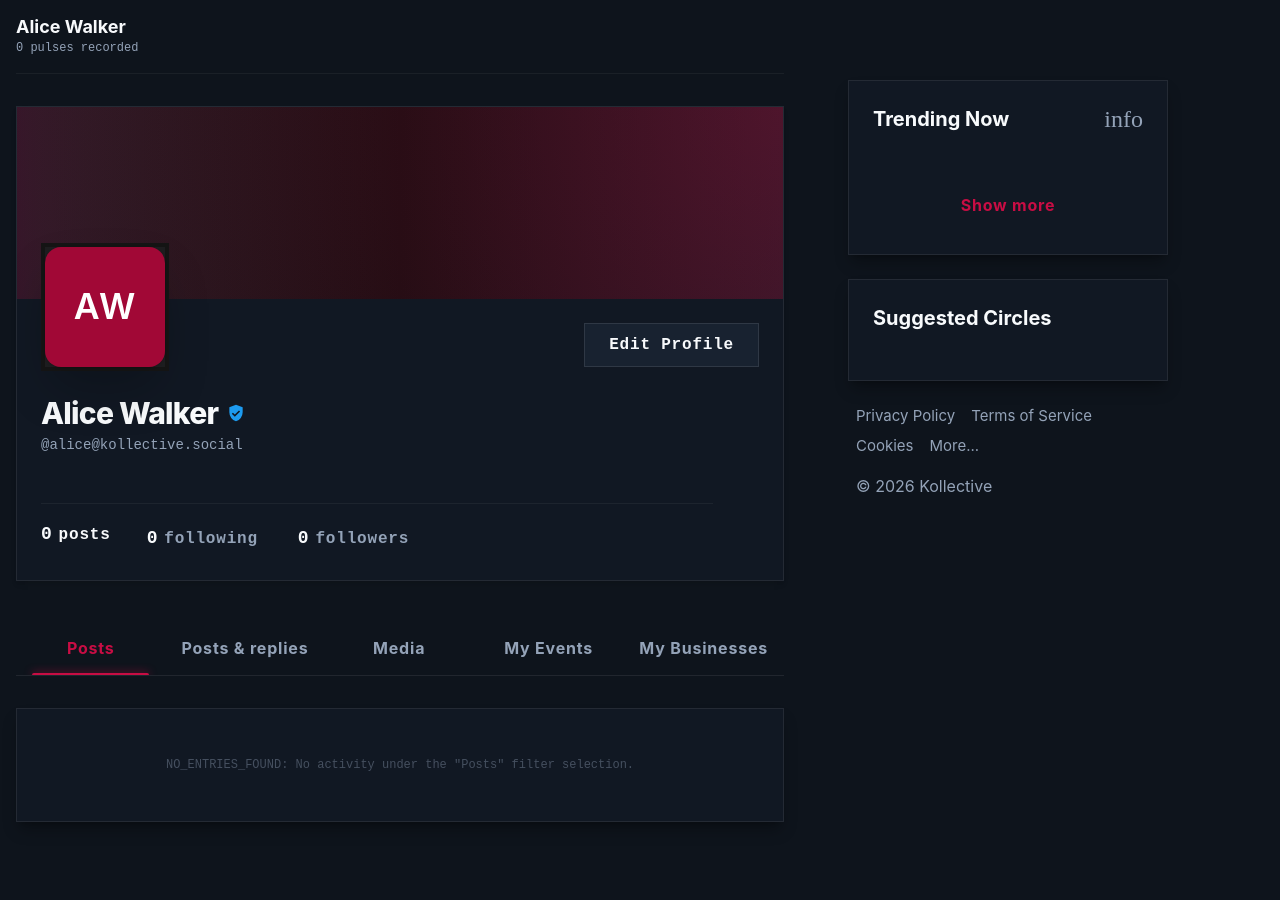
Test case: UserProfilePage Events and Businesses Visibility Suite › renders user hosted events and Edit button when My Events tab is selected
Step 1. Click the button with test id "tab-my-events" → (549, 648), box [474, 620, 623, 675]
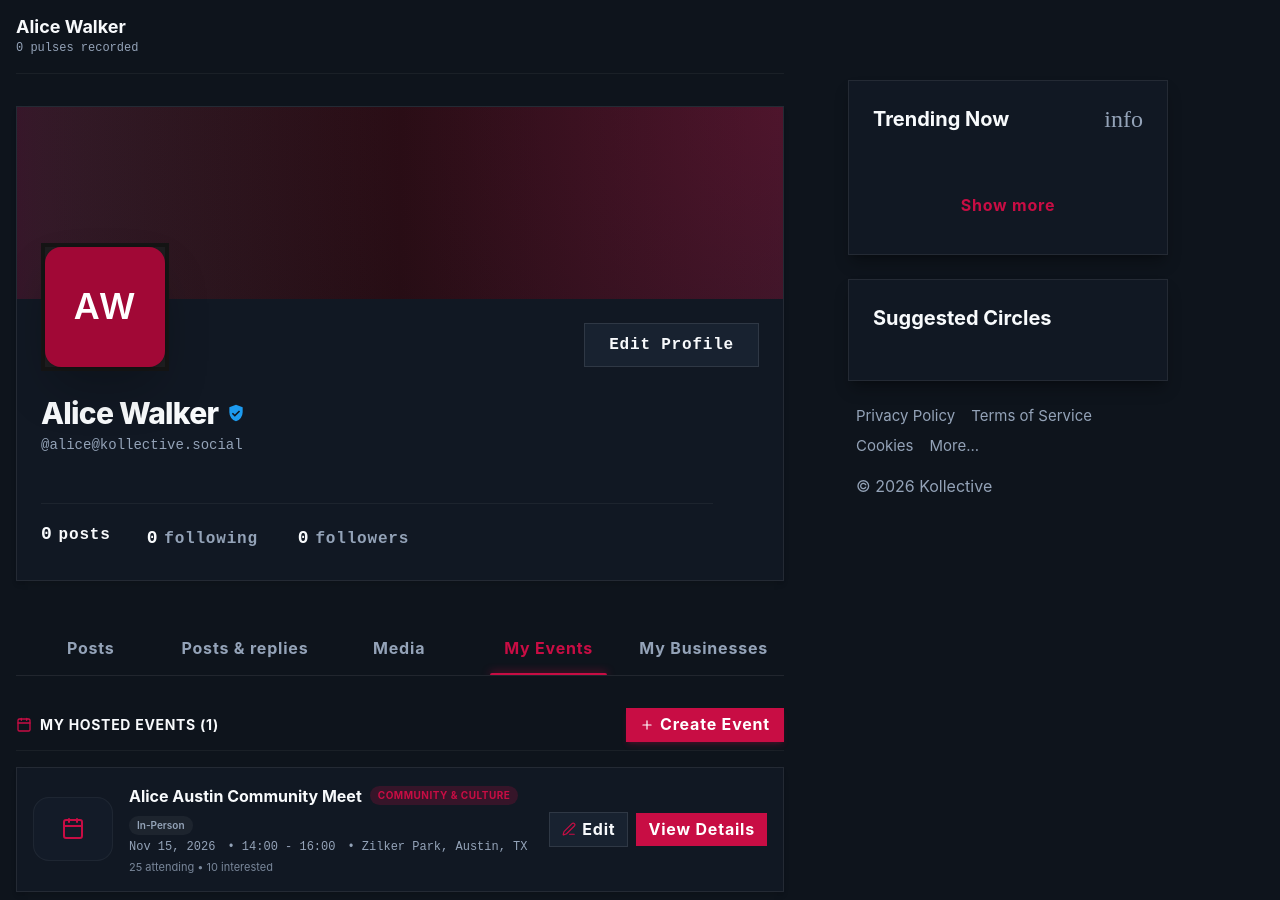
Expected: the element with test id "my-events-section" is shown, [16, 708, 784, 892]
Expected: the heading "Alice Austin Community Meet" is shown, [129, 784, 362, 808]
Expected: the button with test id "edit-my-event-btn-evt-1" is shown, [549, 812, 628, 847]
